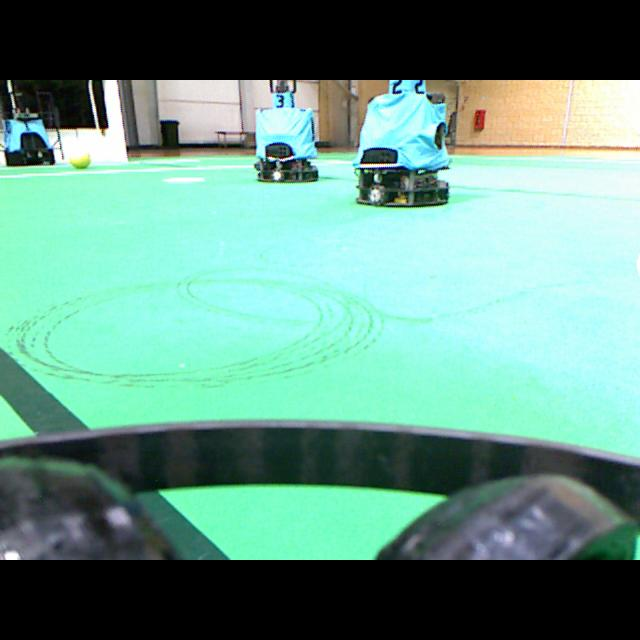ball: (69, 148, 90, 169)
goal: (104, 80, 127, 162)
